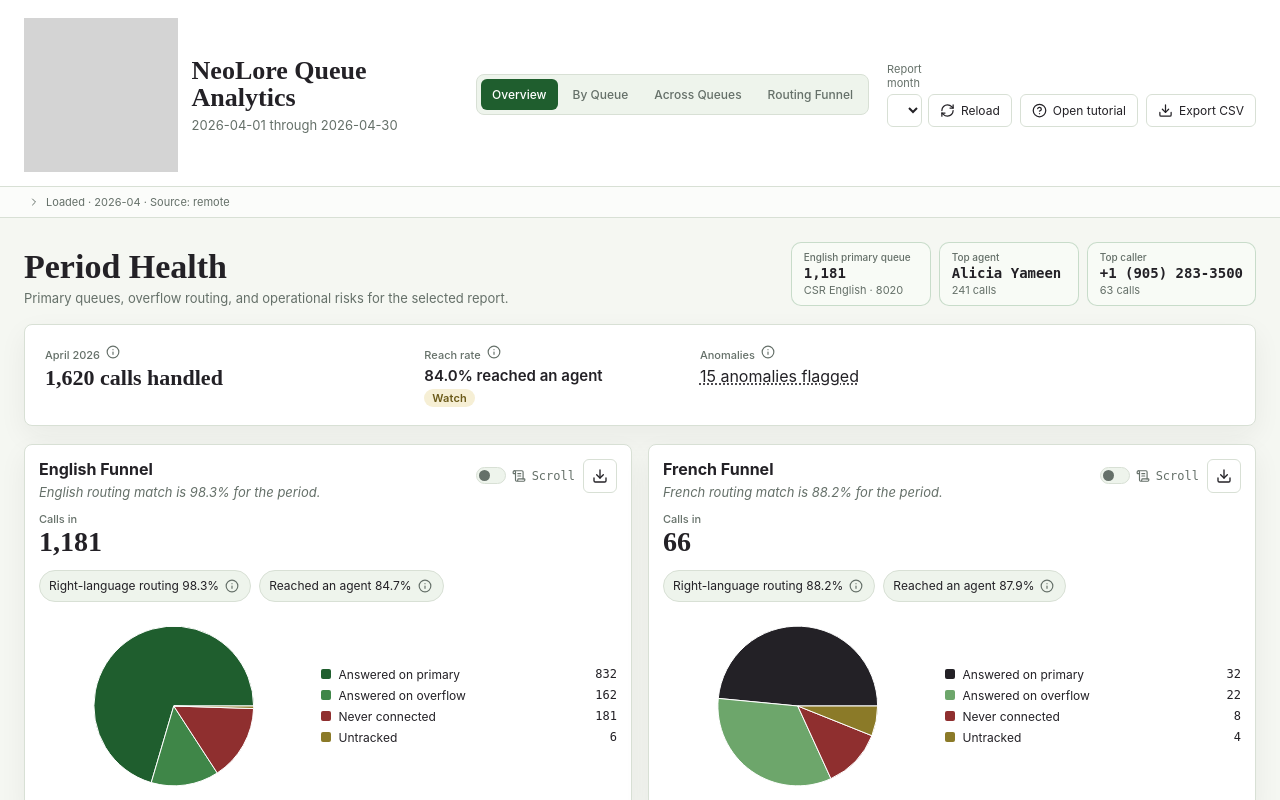
App › keeps completed tutorials closed but lets users reopen them
Expected: the heading "NeoLore Queue Analytics" is shown, [192, 56, 367, 112]
Expected: the dialog "CSH platform guide" is not shown
Click the button "Open tutorial".
click(1079, 111)  # box [1020, 94, 1138, 127]
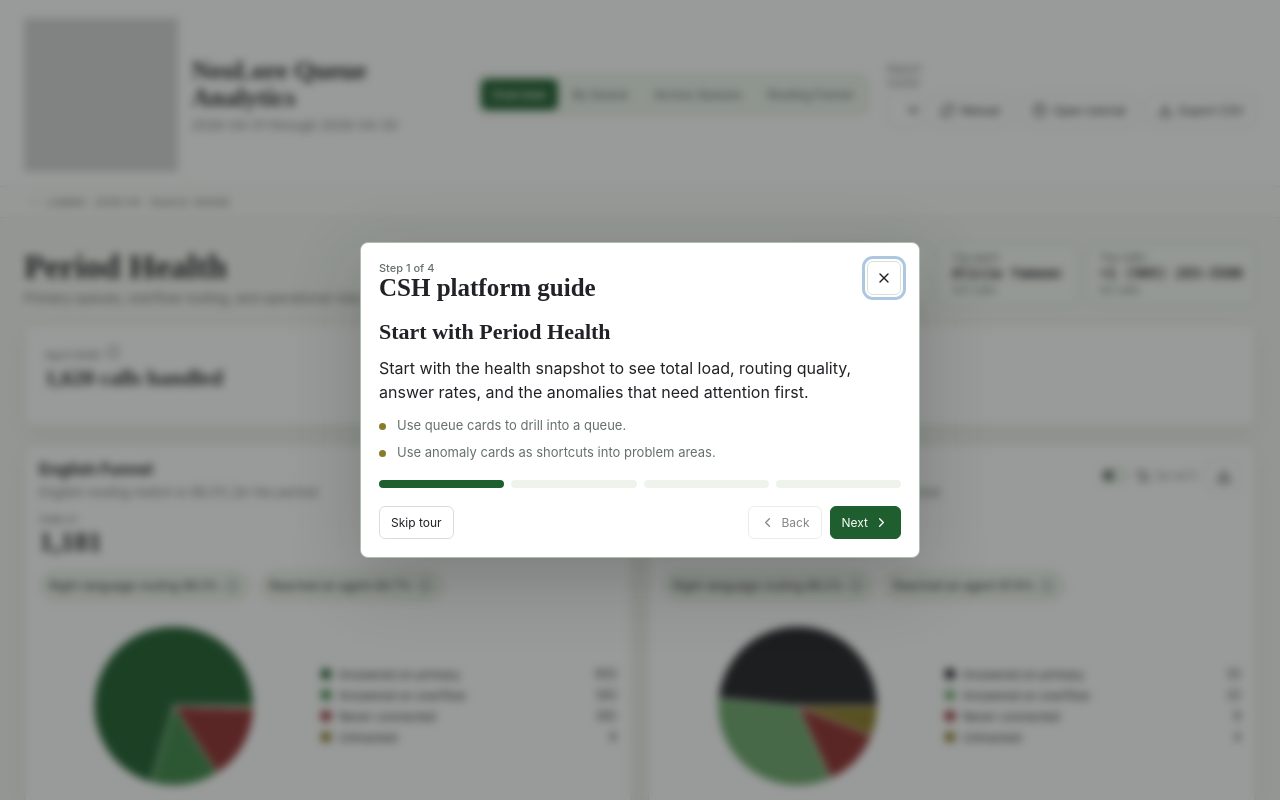
Expected: the dialog "CSH platform guide" is shown, [360, 242, 920, 558]
Expected: the text "Start with the health snapshot" is shown, [379, 358, 851, 402]
